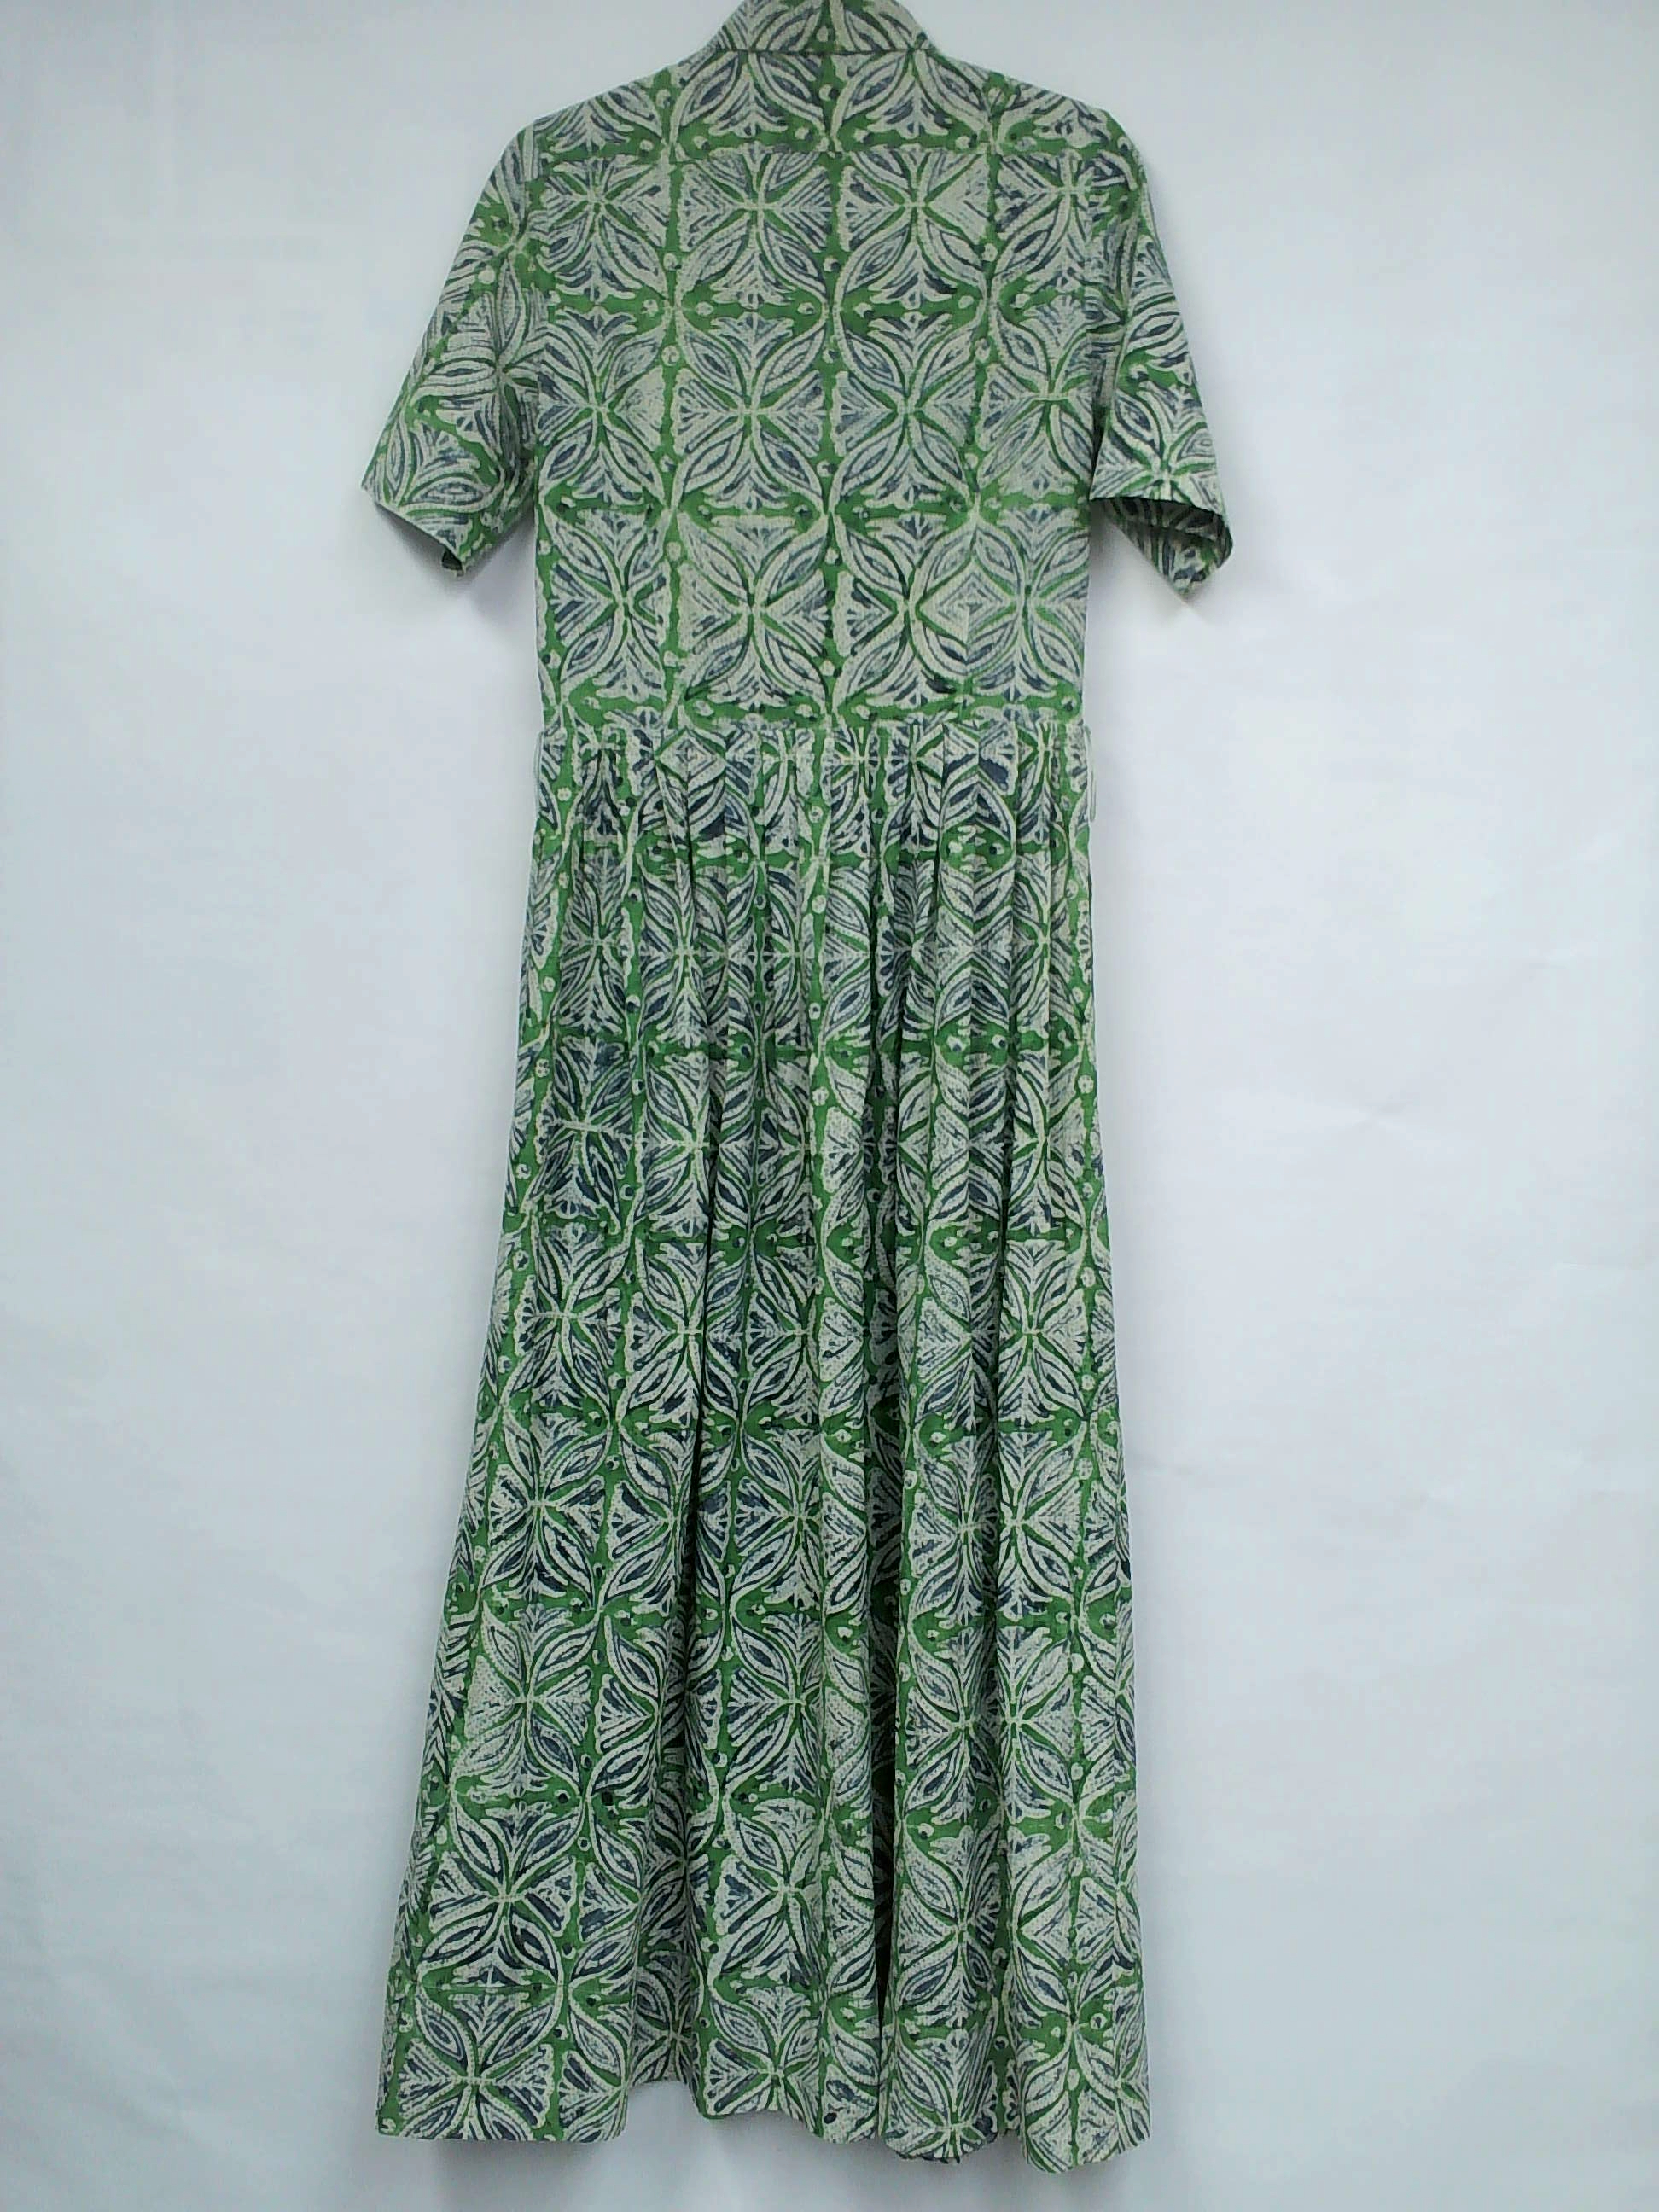seam: (376, 1806, 622, 2148)
